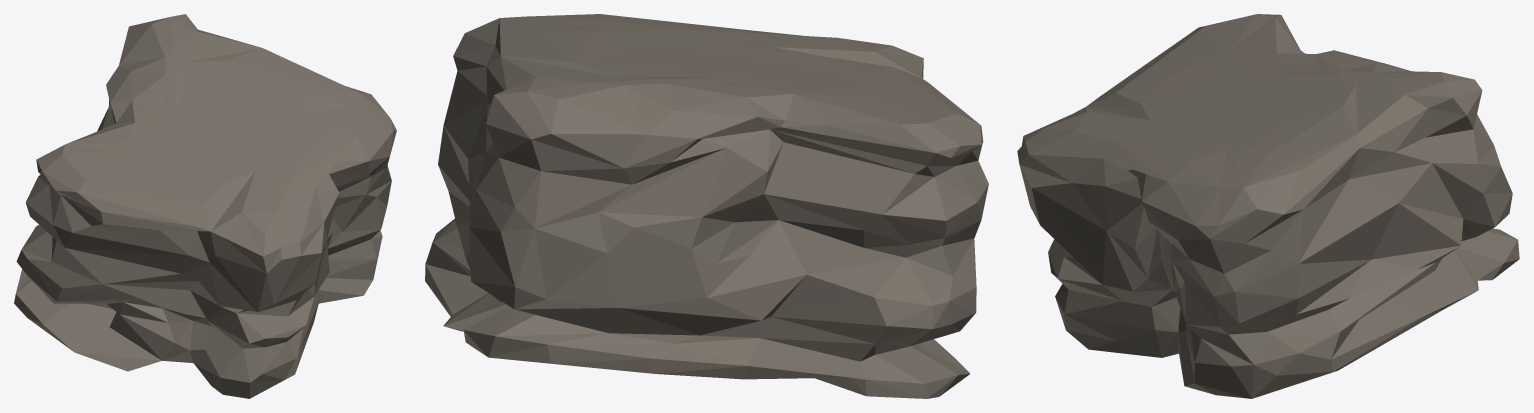
File: SM_Env_Rock_Large_010.fbx.glb
3 views of the same model, side by side, from view 1: azimuth 30°, elevation 25°; view 2: azimuth 150°, elevation 25°; view 3: azimuth 270°, elevation 25° (orthographic). The views are drawn at different scales.
Parts seen in each view (by area): view 1: node_id4; view 2: node_id4; view 3: node_id4.
Boxes of the visible parts, x1,y1,x2,y2 form: node_id4: (14, 14, 396, 398); node_id4: (425, 14, 988, 398); node_id4: (1017, 14, 1519, 398).
Size of the model in its own units: 0.5489 by 0.3769 by 0.596.
1 material, 1 textured.
